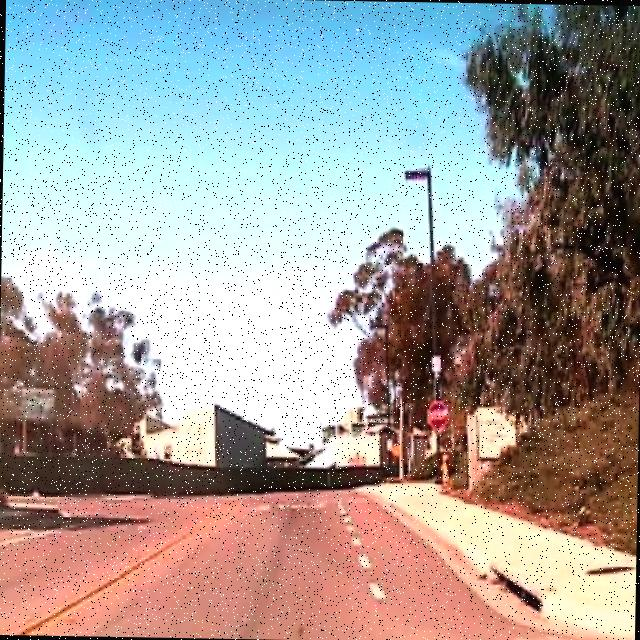Stop: (425, 397, 450, 433)
